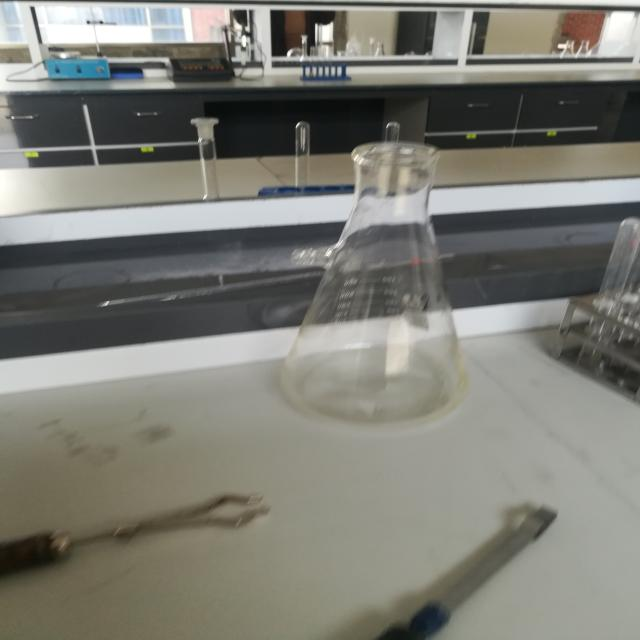Conical_Flask: (302, 111, 474, 436)
TestTube_Holder: (340, 489, 626, 640), (0, 474, 293, 594)
